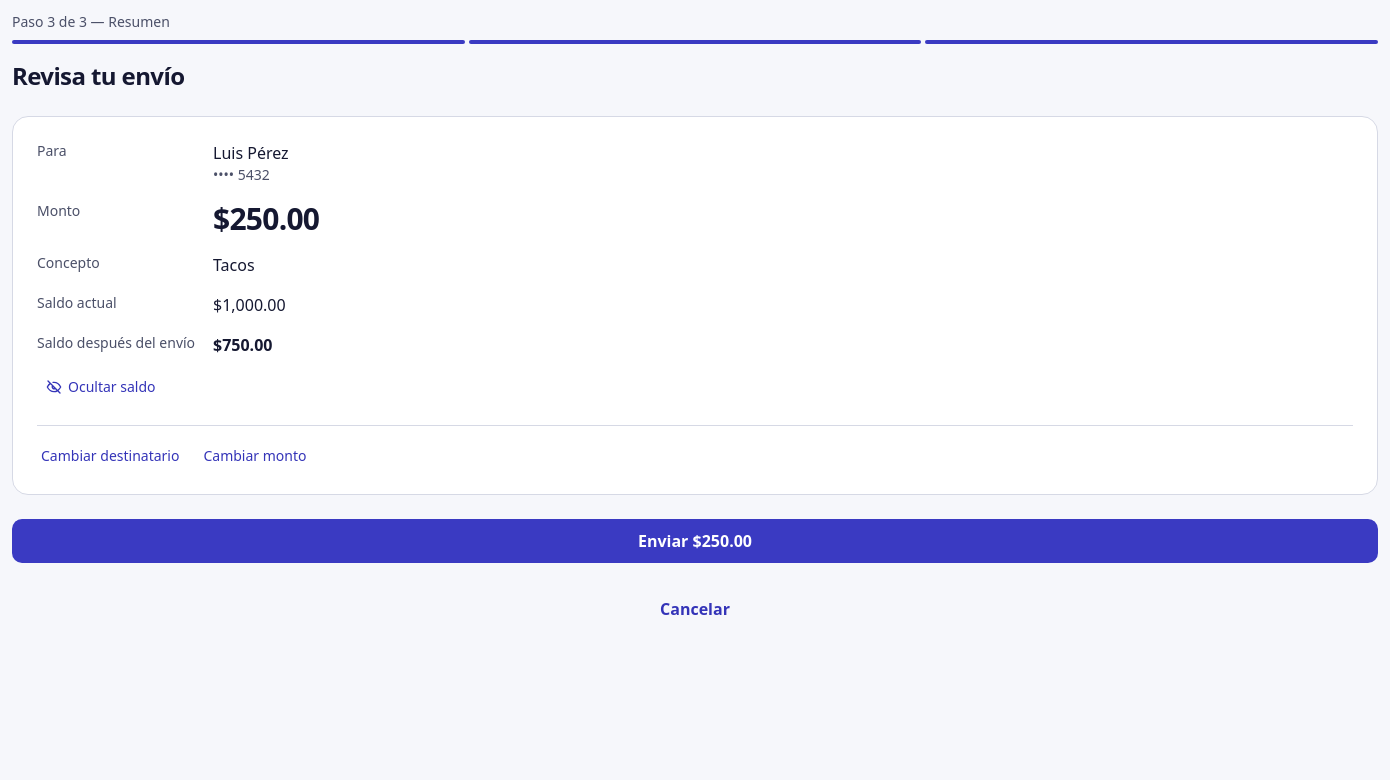
it: [TC-COMP-14] Confirmation views › [UIR-CONF-05][AC-CONF-07] not processed after verification
Click the button "Enviar $250.00". click: (695, 541)
box: left=12, top=519, right=1378, bottom=563
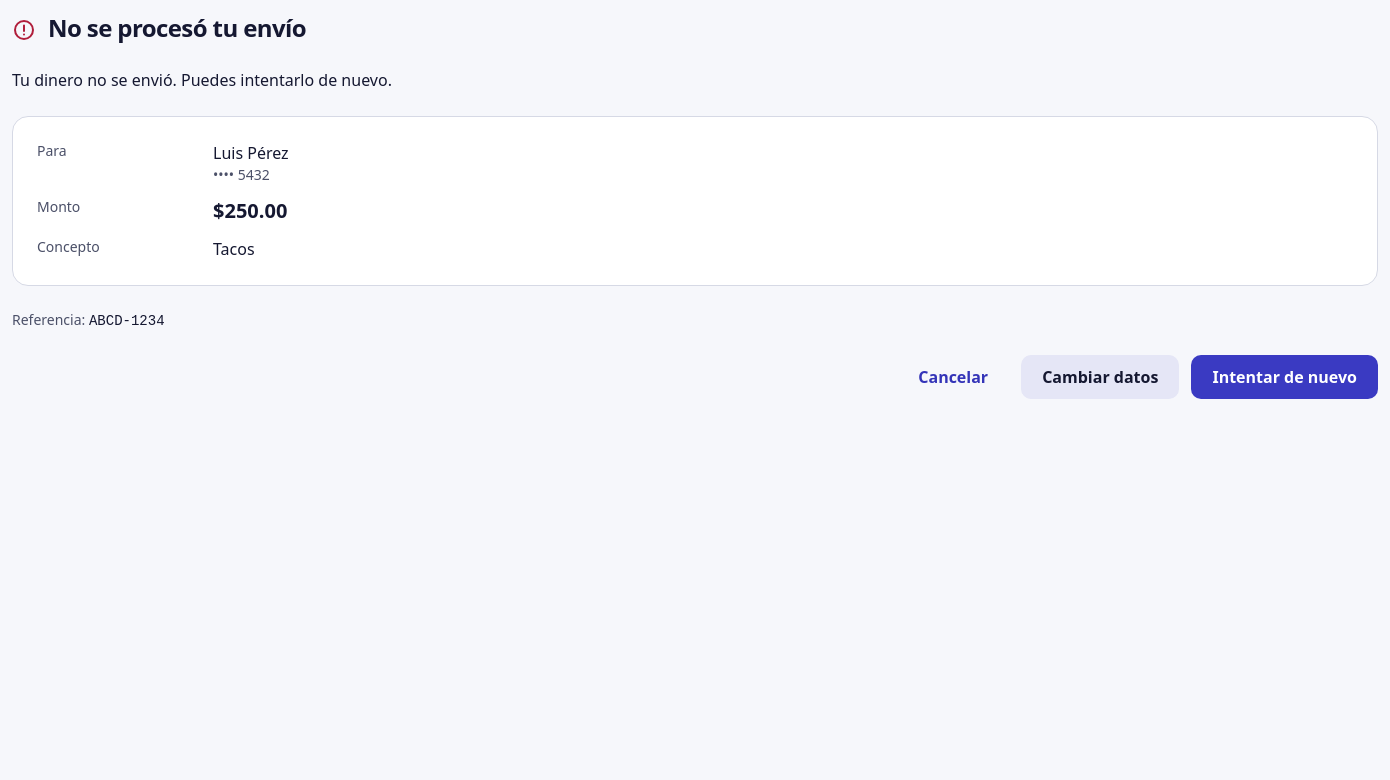
Expected: the text "Tu dinero no se envió. Puedes intentarlo de nuevo." is shown, left=12, top=69, right=392, bottom=91
Expected: the button "Intentar de nuevo" is shown, left=1191, top=355, right=1378, bottom=399
